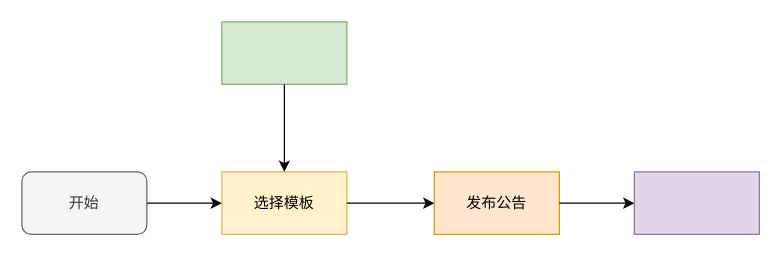
This 781x256 diagram has some shape labels left out. The shapes that lost their labels are listed below. From the top down, each one's box as (x1, y1, x2, y2) in pixels, then its label:
(221, 21, 347, 84): 新增/编辑模板
(633, 171, 759, 234): 公告发布记录
